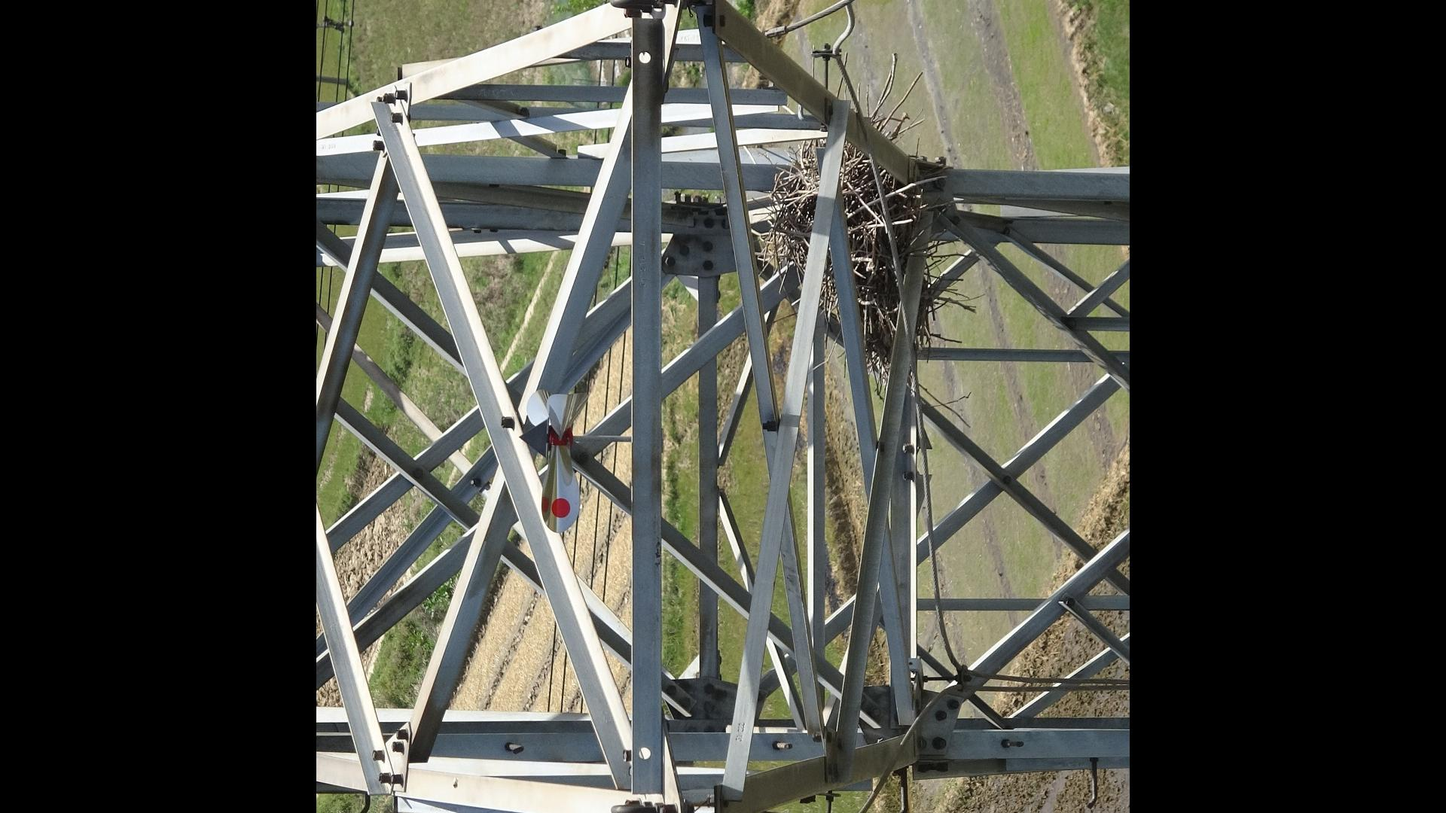nest: (754, 130, 950, 379)
